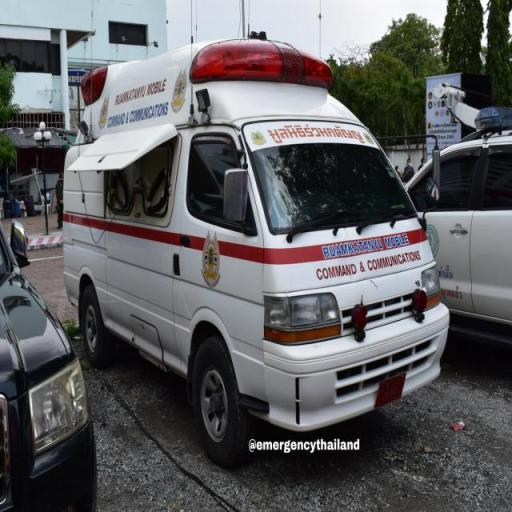Police car: (54, 31, 452, 462)
